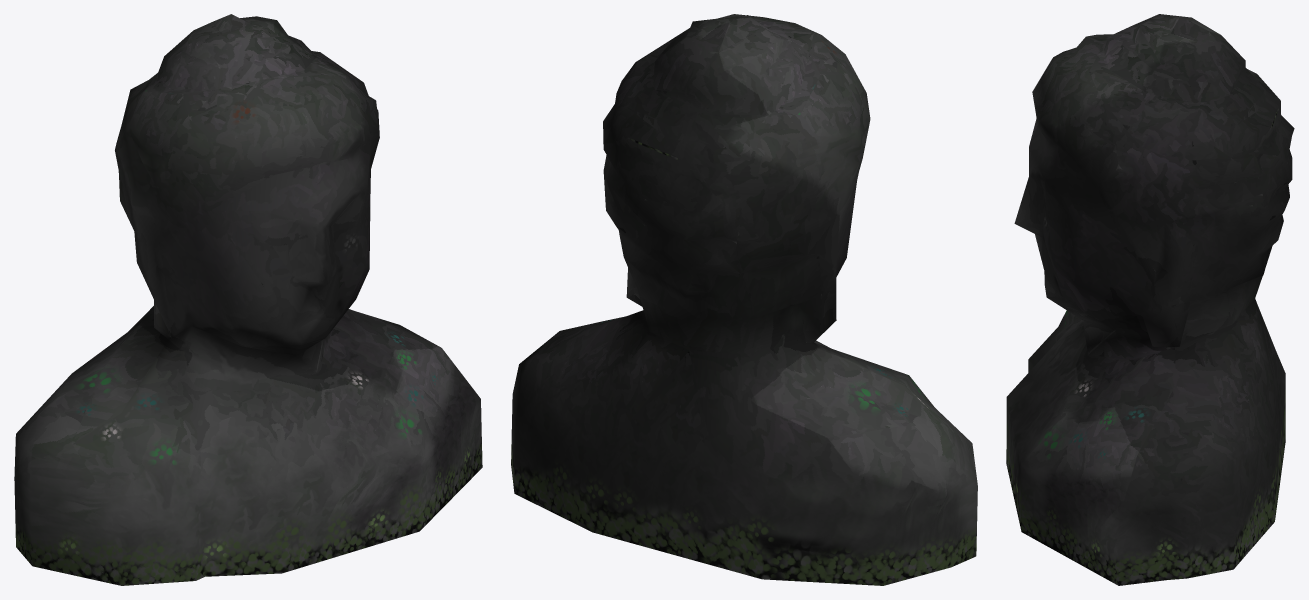
File: VV-BuddhaStatue-2.fbx
The picture shows the model from 3 angles, left to right: view 1: azimuth 30°, elevation 25°; view 2: azimuth 150°, elevation 25°; view 3: azimuth 270°, elevation 25°; orthographic projection. The views are drawn at different scales.
Parts seen in each view (by area): view 1: BuddhaStatue-2; view 2: BuddhaStatue-2; view 3: BuddhaStatue-2.
Boxes of the visible parts, <box> form: BuddhaStatue-2: <box>14,14,482,585</box>; BuddhaStatue-2: <box>511,14,977,585</box>; BuddhaStatue-2: <box>1006,14,1294,585</box>.
Size of the model in its own units: 2.23 by 2.35 by 1.31.
